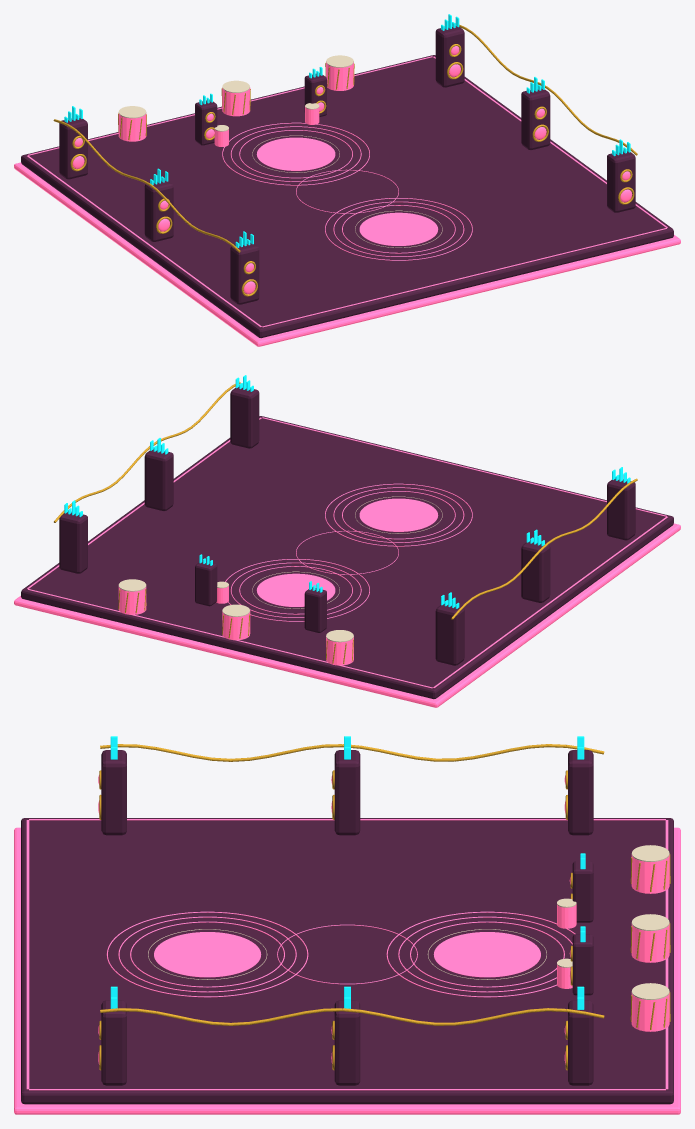
File: sound.glb
3 views of the same model, one above another, from view 1: azimuth 30°, elevation 25°; view 2: azimuth 150°, elevation 25°; view 3: azimuth 270°, elevation 25° (orthographic). The views are drawn at different scales.
Visible parts, largest first — view 1: Gym_sound; view 2: Gym_sound; view 3: Gym_sound.
Part boxes in pixels (<box>): Gym_sound: <box>14,14,680,346</box>; Gym_sound: <box>14,375,680,707</box>; Gym_sound: <box>14,736,680,1114</box>.
Bounding box in the file's own units: 28.6 × 5.37 × 28.6.
